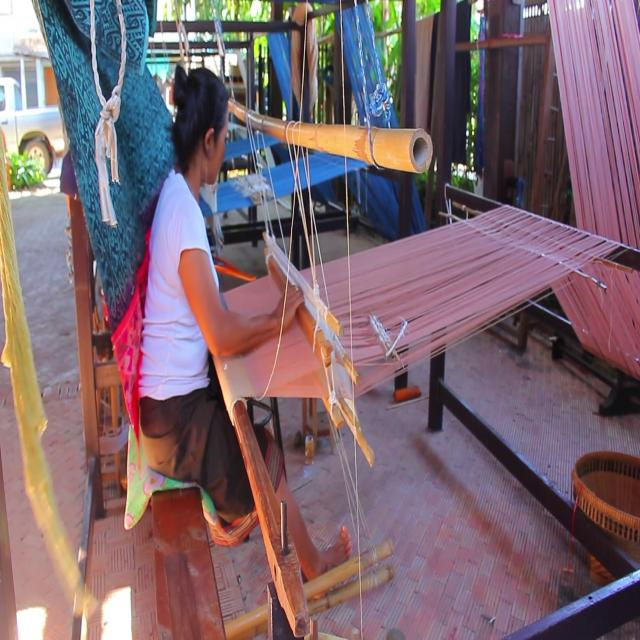not-gloved: (275, 282, 304, 339)
